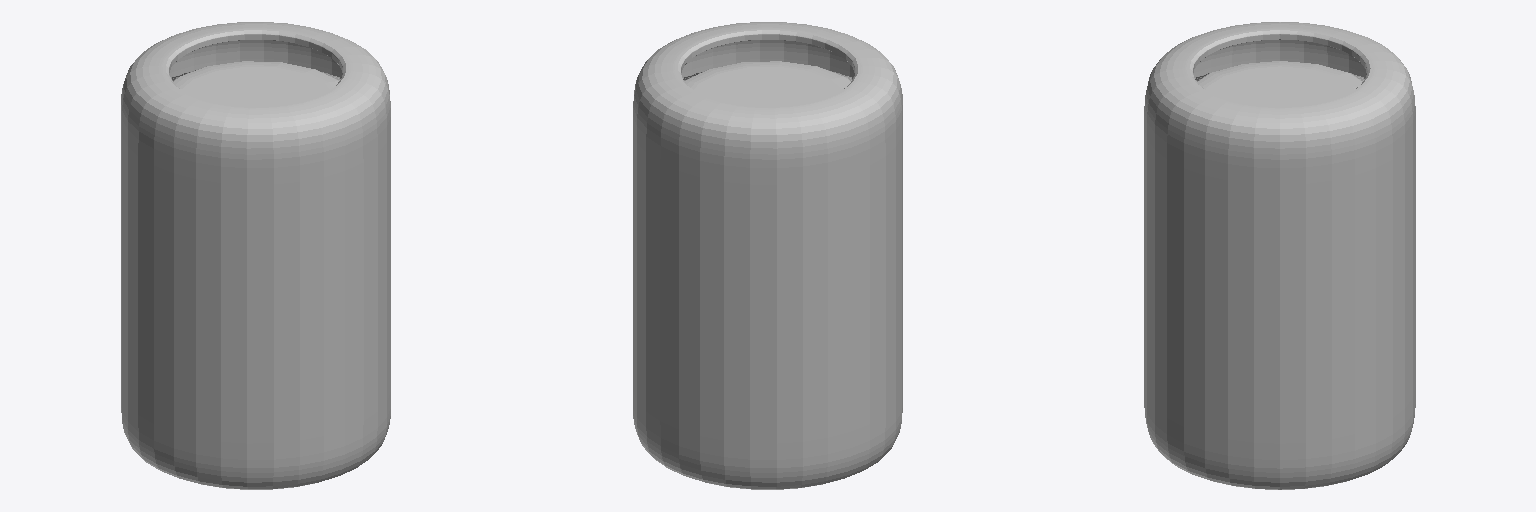
File: macPro.obj
3 renders of one model, left to right at view 1: azimuth 30°, elevation 25°; view 2: azimuth 150°, elevation 25°; view 3: azimuth 270°, elevation 25°, orthographic.
Visible parts, largest first — view 1: polySurface1; view 2: polySurface1; view 3: polySurface1.
Boxes of the visible parts, x1=… form: polySurface1: x1=121, y1=22, x2=390, y2=489; polySurface1: x1=633, y1=22, x2=902, y2=489; polySurface1: x1=1144, y1=22, x2=1415, y2=489.
Bounding box in the file's own units: 16.86 × 25.72 × 16.86.